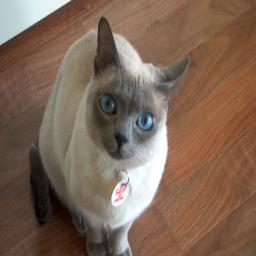catnose: (114, 132, 129, 148)
